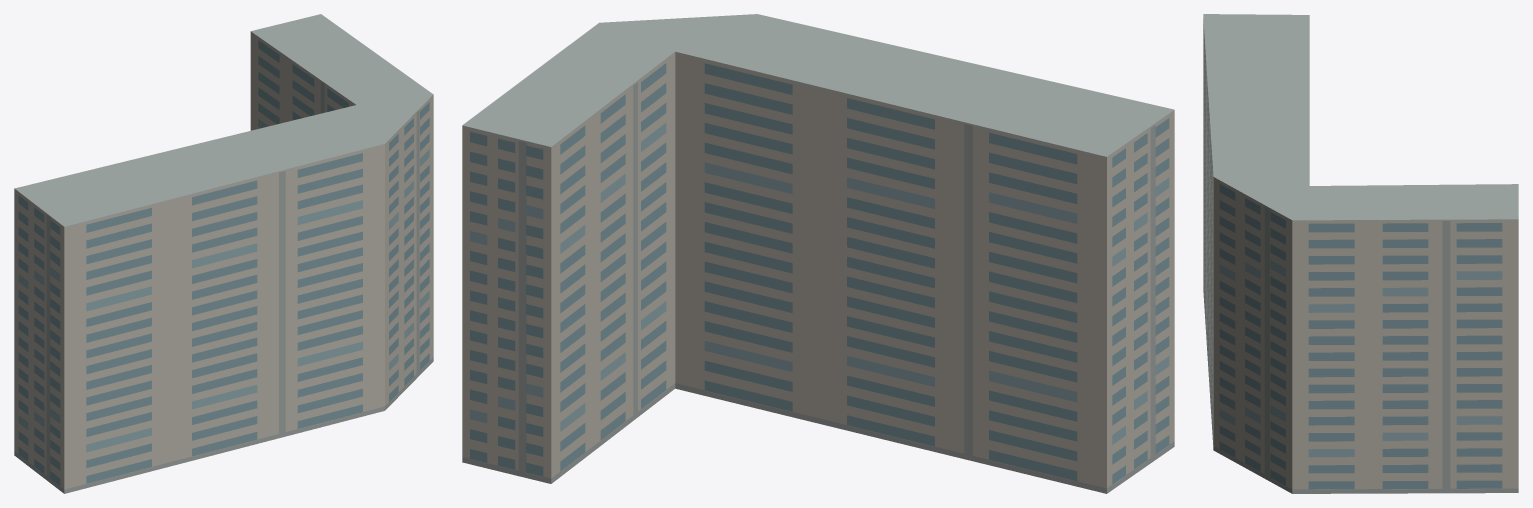
The model's file is residential-bddd30c6-6c66-4a3f-bbae-8a0eccf1f971.glb.
3 renders of one model, left to right at view 1: azimuth 30°, elevation 25°; view 2: azimuth 150°, elevation 25°; view 3: azimuth 270°, elevation 25°, orthographic. The views are drawn at different scales.
Parts seen in each view (by area): view 1: residential-bddd30c6-6c66-4a3f-bbae-8a0eccf1f971.tmp; view 2: residential-bddd30c6-6c66-4a3f-bbae-8a0eccf1f971.tmp; view 3: residential-bddd30c6-6c66-4a3f-bbae-8a0eccf1f971.tmp.
Part boxes in pixels (x1,y1,x2,y2): residential-bddd30c6-6c66-4a3f-bbae-8a0eccf1f971.tmp: (14, 14, 433, 493); residential-bddd30c6-6c66-4a3f-bbae-8a0eccf1f971.tmp: (462, 14, 1174, 493); residential-bddd30c6-6c66-4a3f-bbae-8a0eccf1f971.tmp: (1203, 14, 1518, 493).
Bounding box in the file's own units: 74.39 × 46 × 48.09.
